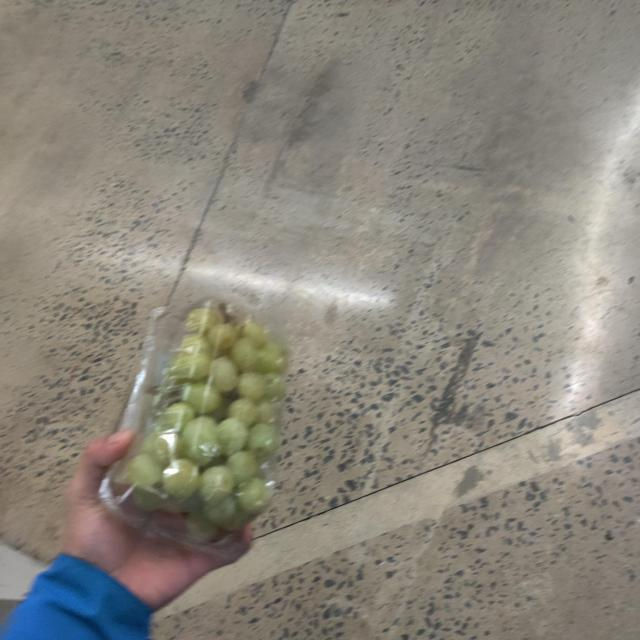Grapes: (96, 292, 312, 557)
